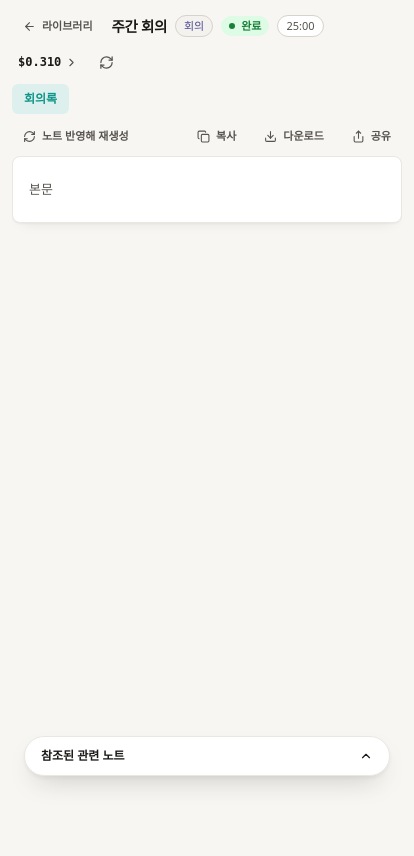
Scenario: 비용 내역 › 완료 세션은 서버가 준 항목을 그대로 펼친다(kind 를 화면이 정하지 않는다)
This screenshot has width=414, height=856.
Click the button "$0.310": (48,62) [12,51,84,73]
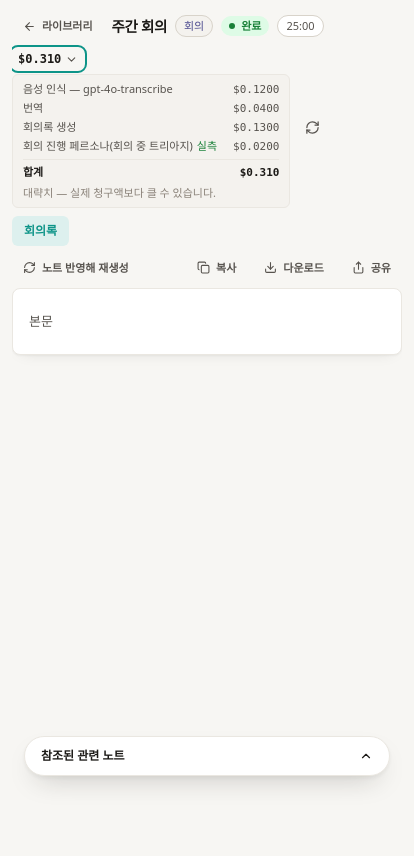
Now the text "회의 진행 페르소나(회의 중 트리아지)실측" is shown, box [23,138,217,154]
Now the text "실측" is shown, box [197,138,217,153]
